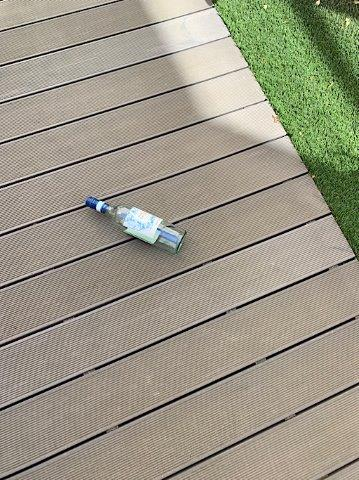botolkaca: (84, 196, 187, 253)
